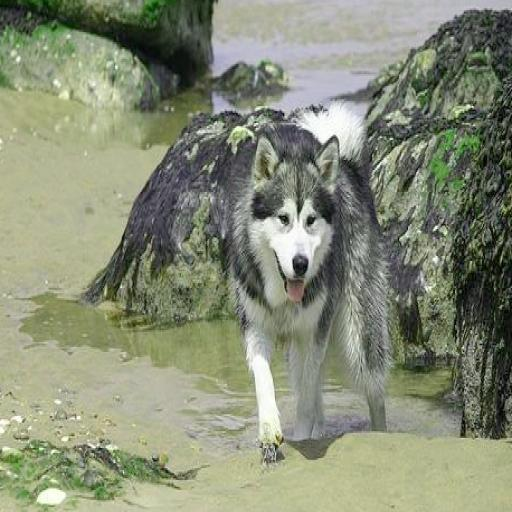dog_face: (253, 133, 345, 300)
